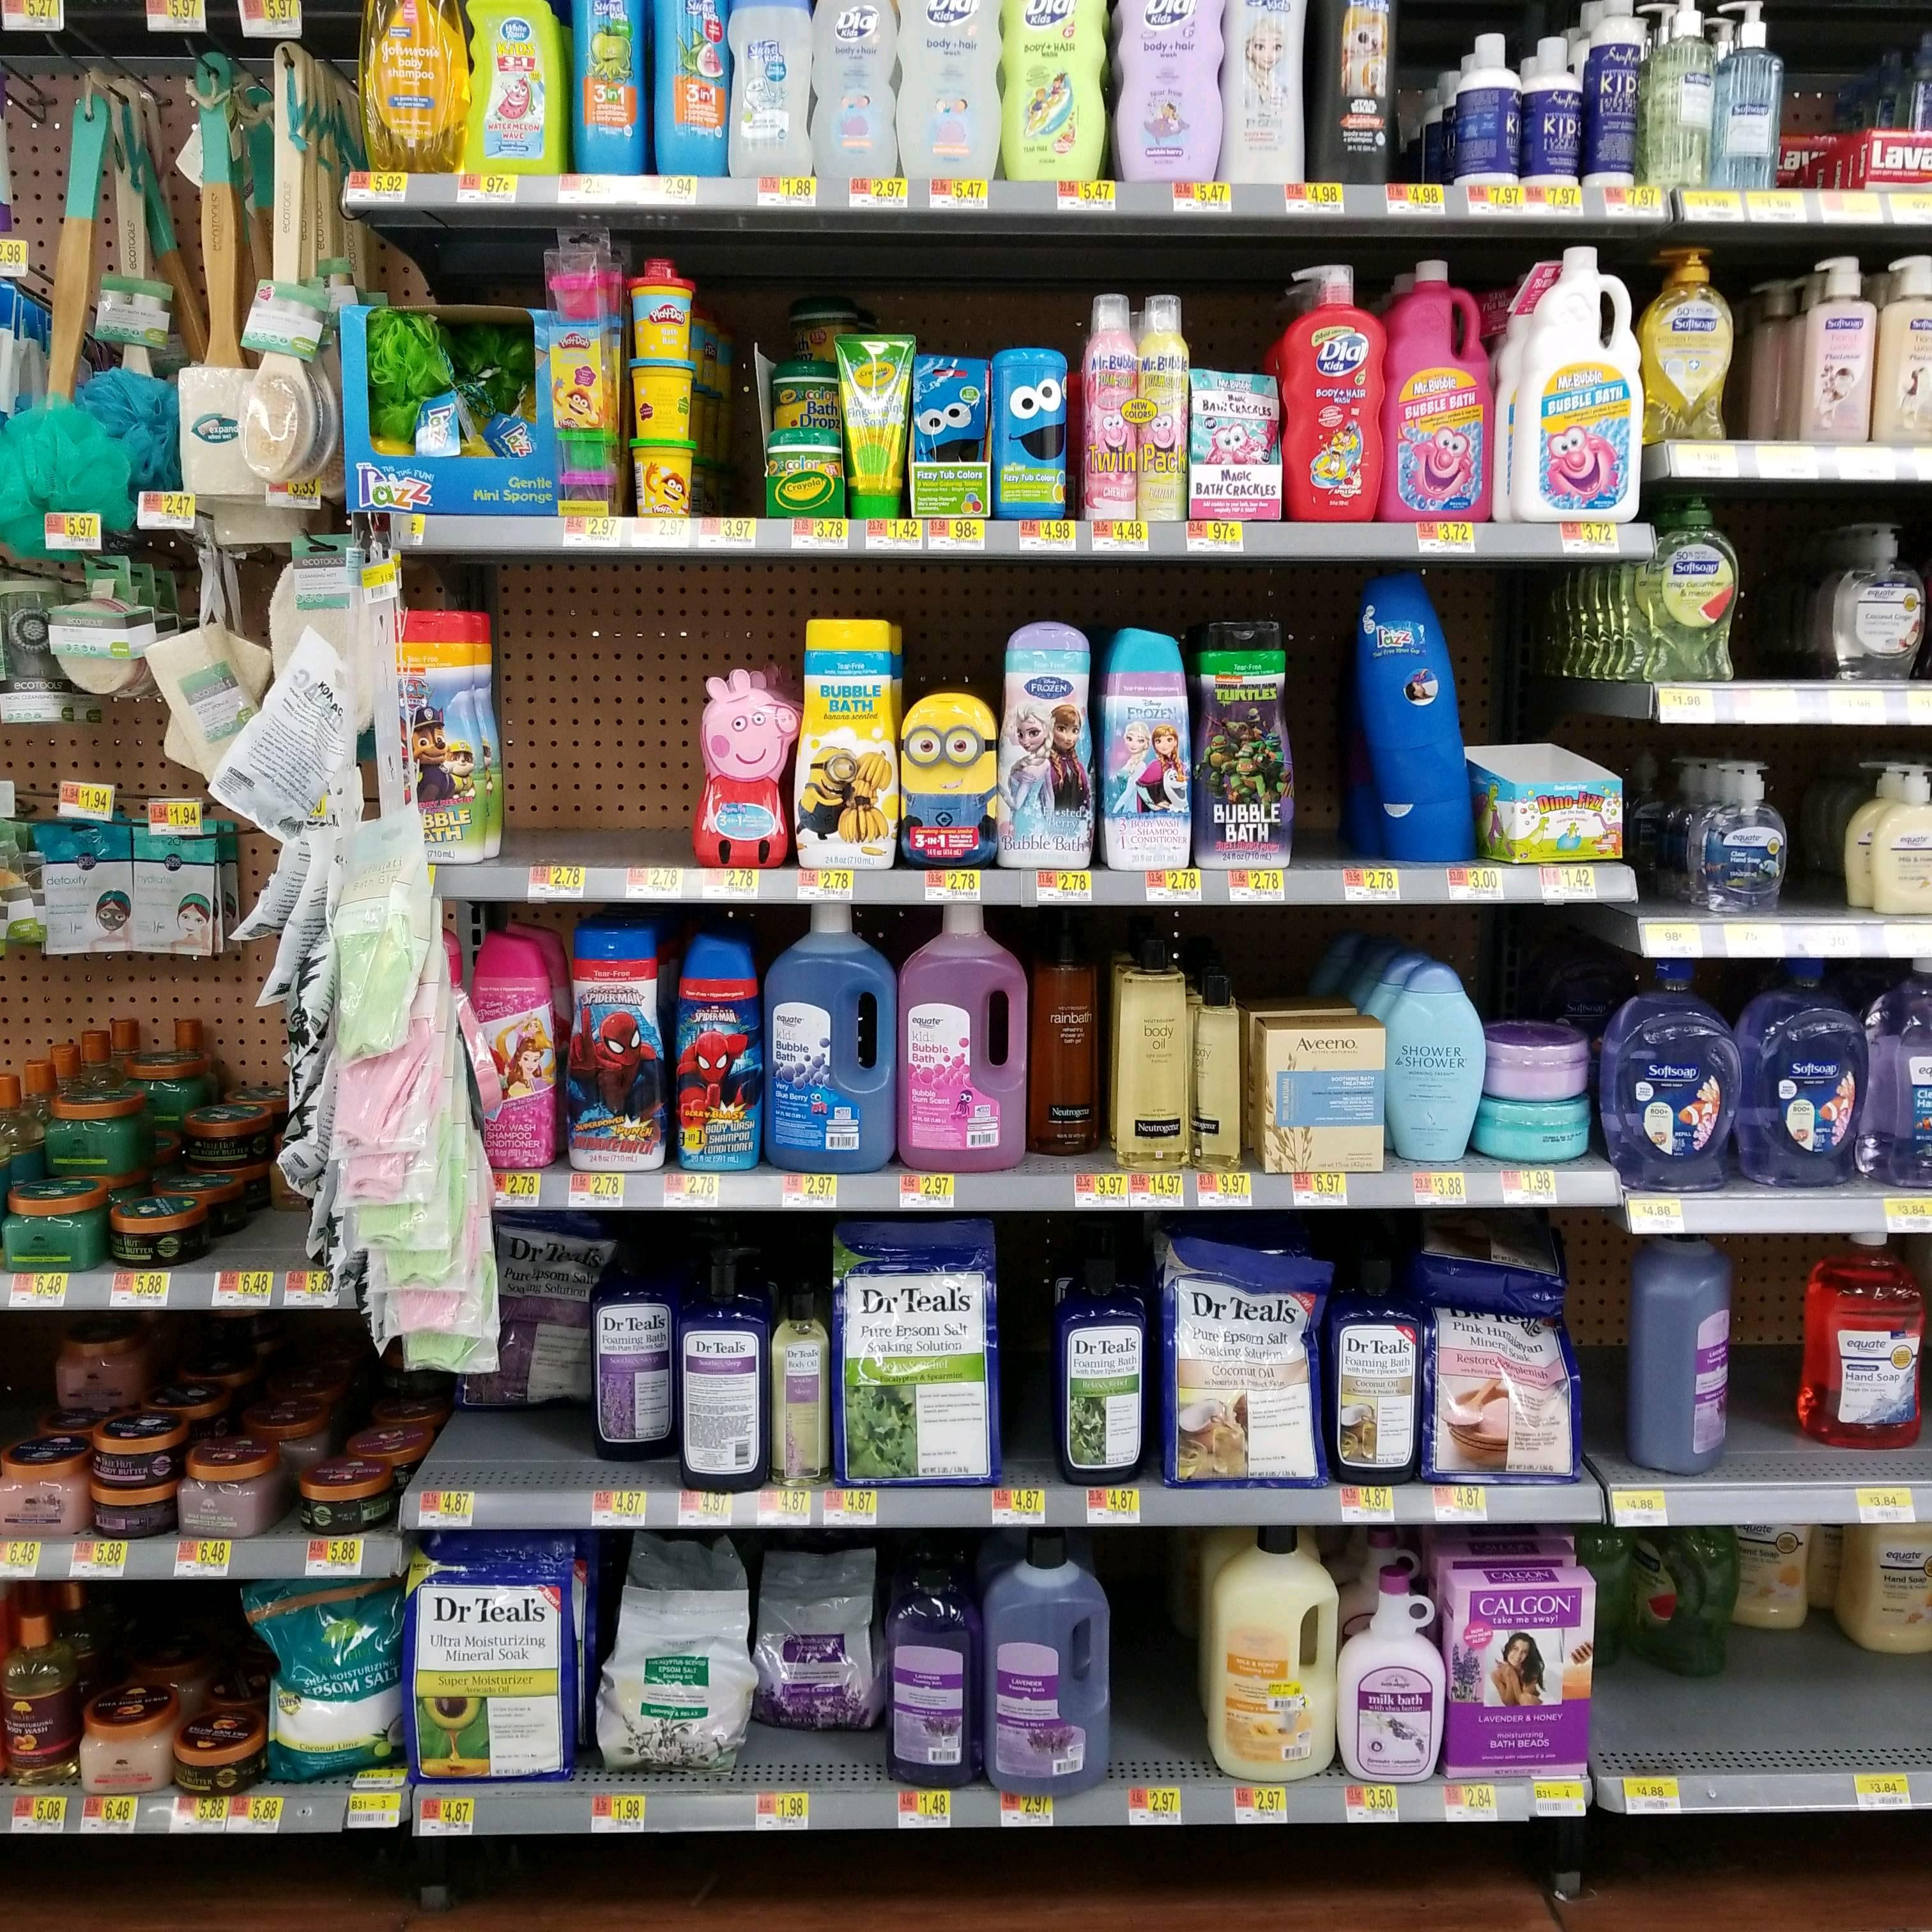misalignment: (1621, 1224, 1746, 1479), (750, 1557, 886, 1744), (1594, 1523, 1748, 1688), (1410, 1212, 1571, 1313)
